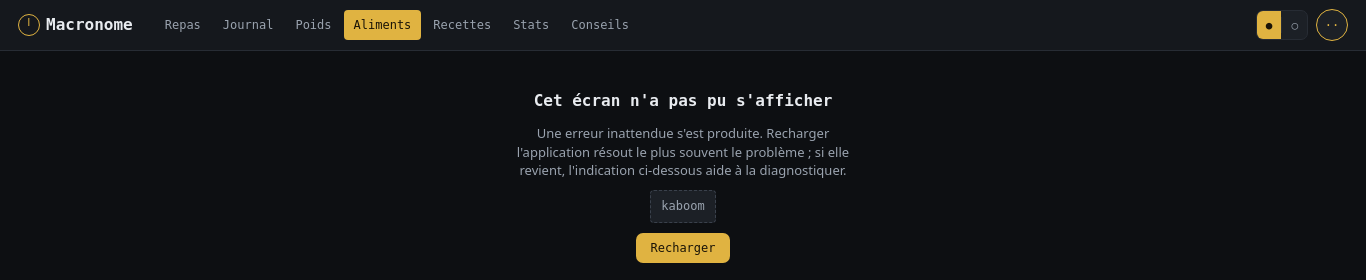
Test: AppShell route boundary (B-265) › clears the card when you navigate away from the crashed screen
This screenshot has width=1366, height=280.
Expected: the heading "Cet écran n'a pas pu s'afficher" is shown, [534,89,832,114]
Step 1. Click the link "Recettes" → (462, 25), box [433,18,491,32]
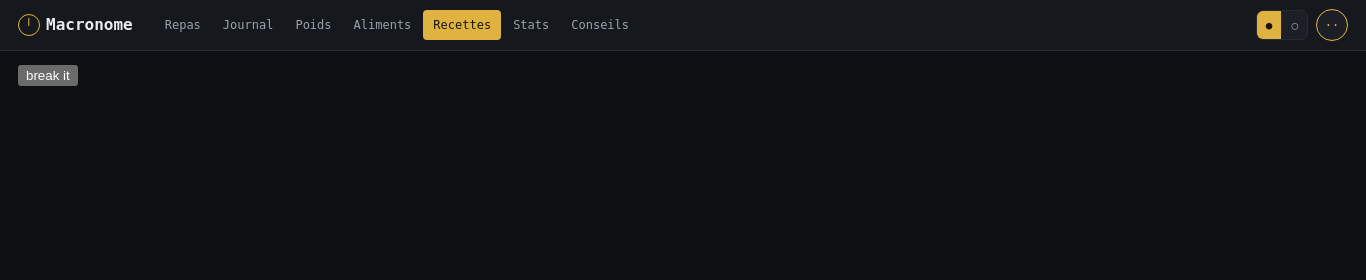
Now the heading "Cet écran n'a pas pu s'afficher" is gone
Now the button "break it" is shown, box [18,65,78,86]
